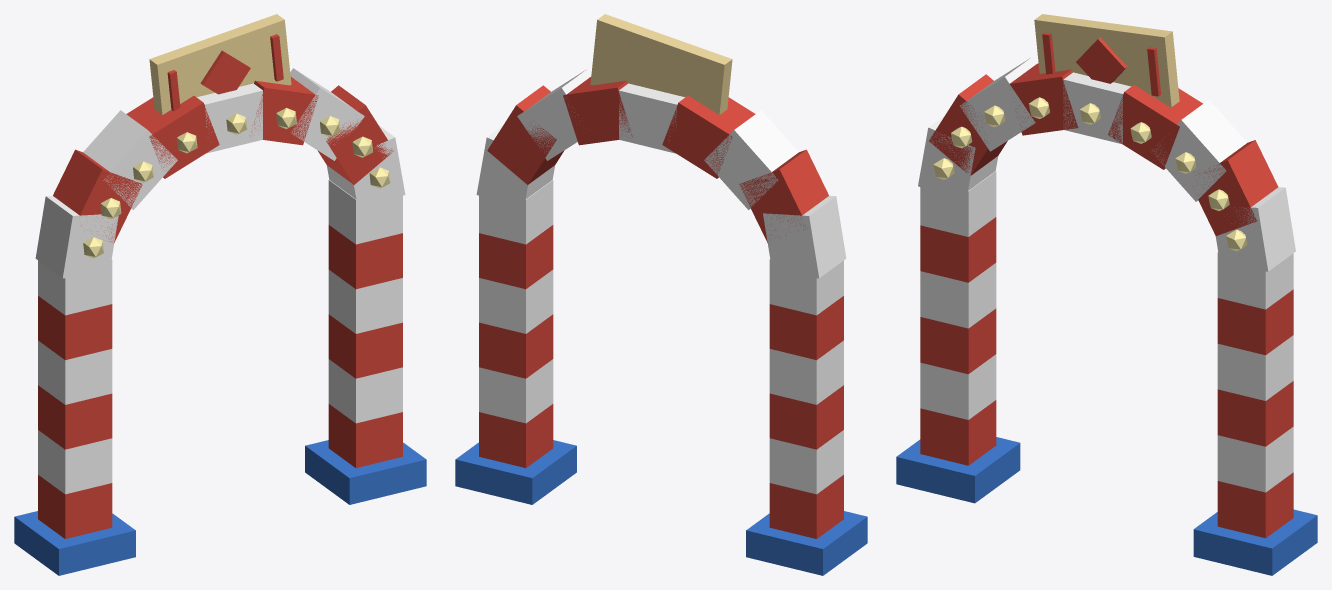
File: CatCafe_Decor_TicketArch.glb
3 views of the same model, side by side, from view 1: azimuth 30°, elevation 25°; view 2: azimuth 150°, elevation 25°; view 3: azimuth 330°, elevation 25° (orthographic). The views are drawn at different scales.
Visible parts, largest first — view 1: CatCafe_Decor_TicketArch, CatCafe_Decor_TicketArch_Glow; view 2: CatCafe_Decor_TicketArch; view 3: CatCafe_Decor_TicketArch, CatCafe_Decor_TicketArch_Glow.
Part boxes in pixels (box(x1,y1,x2,y2)): CatCafe_Decor_TicketArch: box(14, 14, 426, 575); CatCafe_Decor_TicketArch_Glow: box(83, 108, 390, 258); CatCafe_Decor_TicketArch: box(455, 14, 867, 575); CatCafe_Decor_TicketArch: box(896, 14, 1317, 575); CatCafe_Decor_TicketArch_Glow: box(933, 97, 1247, 251).
Size of the model in its own units: 4.3 by 5.4 by 0.9.
Materials: 1 (1 with a texture image).
